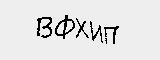В: (34, 15, 52, 39)
И: (89, 18, 105, 45)
П: (102, 24, 120, 46)
Ф: (53, 13, 76, 39)
Х: (73, 17, 88, 42)
